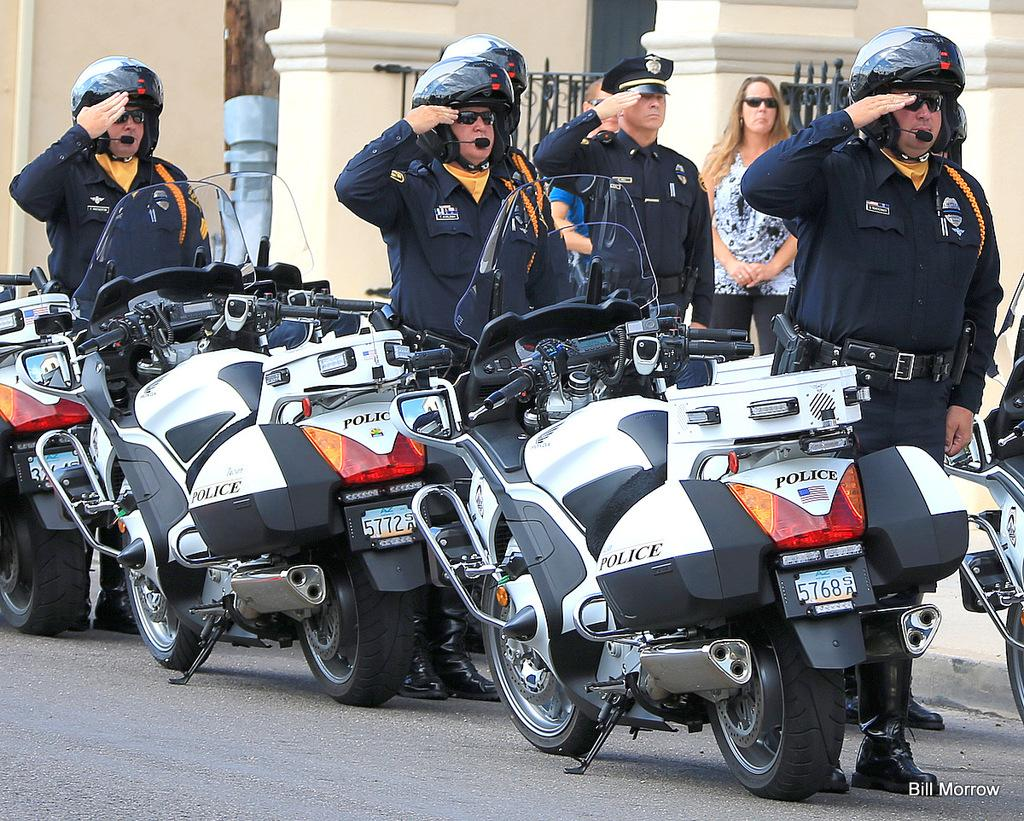helmet: (848, 25, 966, 154), (411, 56, 521, 164), (70, 55, 165, 158), (436, 33, 529, 136)
nohelmet: (601, 54, 670, 135), (736, 76, 784, 141)
